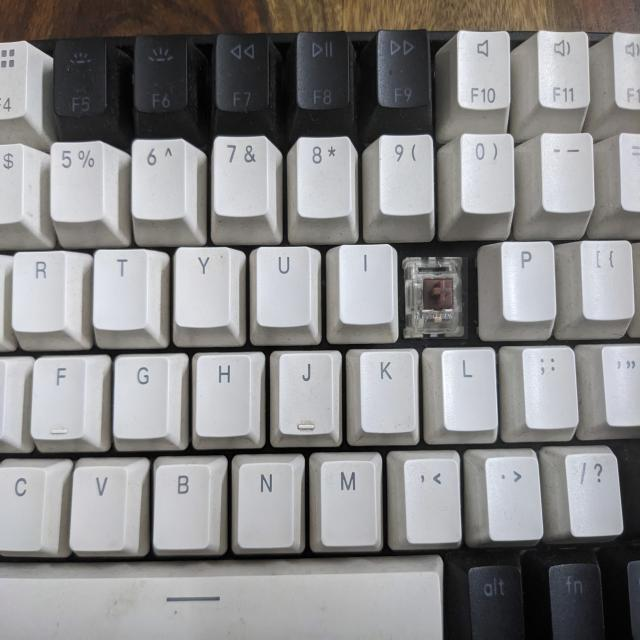C: (406, 258, 468, 340)
